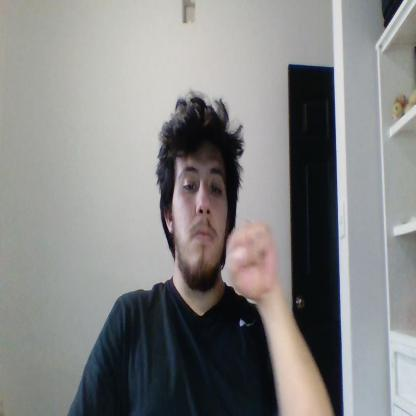S: (228, 224, 276, 298)
